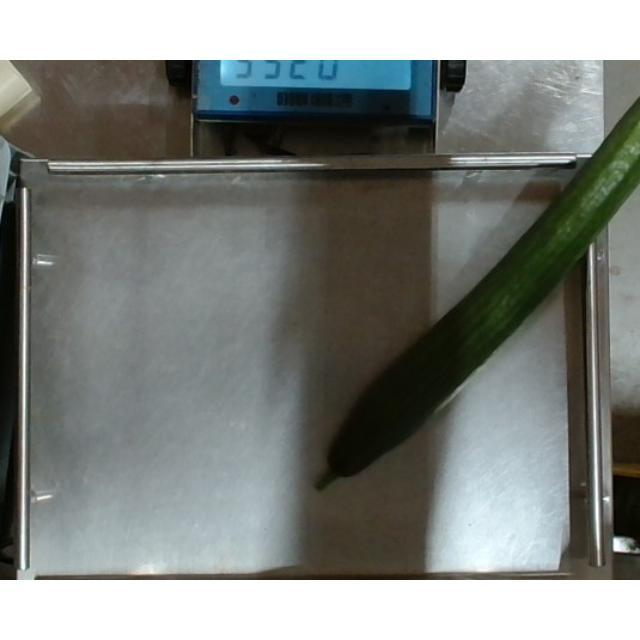cucumber: (308, 83, 640, 497)
